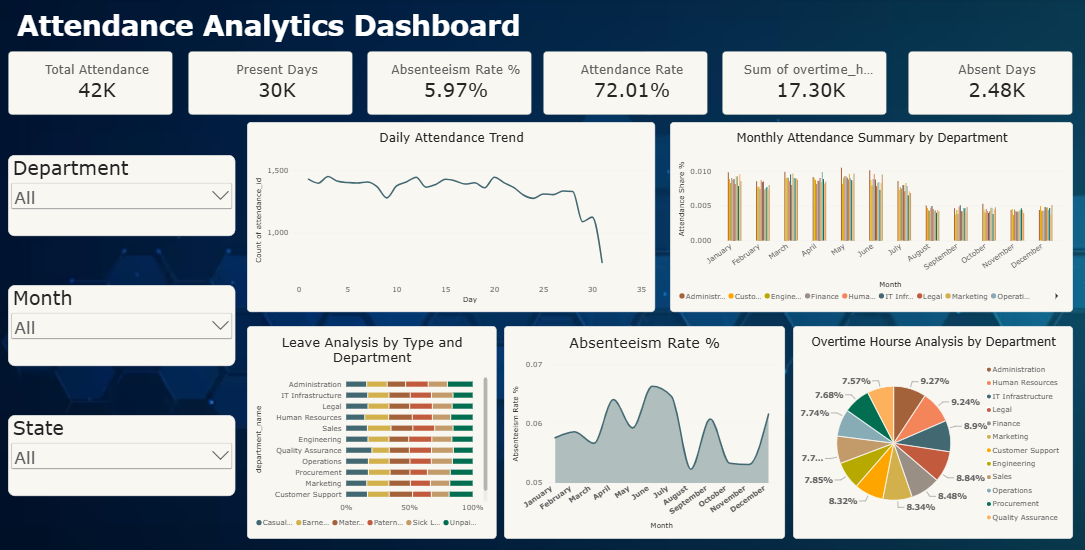

The dashboard page shown, as its layout file describes it:
{"tool":"powerbi","page":{"name":"Attendance Analytics","canvas":[2120,1080],"ordinal":3},"visuals":[{"type":"textbox","box":[42.5,19.1,1213.9,76.5],"z":0},{"type":"lineChart","title":"Daily Attendance Trend","fields":{"Y":["Count(attendance_cleaned.attendance_id)"],"Category":["attendance_cleaned.attendance_date.Variation.Date Hierarchy.Day"]},"box":[488.6,240.4,790.1,368.4],"z":1000},{"type":"clusteredColumnChart","title":"Monthly Attendance Summary by Department","fields":{"Category":["attendance_cleaned.attendance_date.Variation.Date Hierarchy.Month"],"Series":["departments_cleaned.department_name"],"Y":["attendance_cleaned.Attendance Share %"]},"box":[1306.3,240.4,780.2,368.4],"z":2000},{"type":"hundredPercentStackedBarChart","title":"Leave Analysis by Type and Department","fields":{"Category":["departments_cleaned.department_name"],"Y":["CountNonNull(leaves_cleaned.leave_id)"],"Series":["leaves_cleaned.leave_type"]},"box":[488.6,634.4,482.7,411.8],"z":3000},{"type":"stackedAreaChart","title":"Absenteeism Rate % ","fields":{"Category":["attendance_cleaned.attendance_date.Variation.Date Hierarchy.Month"],"Y":["attendance_cleaned.Absenteeism Rate %"]},"box":[985.1,634.4,543.8,411.8],"z":4000},{"type":"pieChart","title":"Overtime Hourse Analysis by Department","fields":{"Category":["departments_cleaned.department_name"],"Y":["Sum(attendance_cleaned.overtime_hours)"]},"box":[1544.7,634.4,541.8,411.8],"z":5000},{"type":"cardVisual","fields":{"Data":["attendance_cleaned.Absent Days"]},"box":[1767.3,102.5,319.2,124.1],"z":6000},{"type":"cardVisual","fields":{"Data":["attendance_cleaned.Total Attendance"]},"box":[25.1,102.6,319.2,124.1],"z":7000},{"type":"cardVisual","fields":{"Data":["attendance_cleaned.Present Days"]},"box":[374.3,102.5,319.2,124.1],"z":8000},{"type":"cardVisual","fields":{"Data":["attendance_cleaned.Absenteeism Rate %"]},"box":[719.1,102.5,319.2,124.1],"z":9000},{"type":"cardVisual","fields":{"Data":["attendance_cleaned.Attendance Rate"]},"box":[1060,102.5,319.2,124.1],"z":10000},{"type":"cardVisual","fields":{"Data":["Sum(attendance_cleaned.overtime_hours)"]},"box":[1406.8,102.5,319.2,124.1],"z":11000},{"type":"slicer","fields":{"Values":["departments_cleaned.department_name"]},"box":[25.6,303.4,440,157.3],"z":12000},{"type":"slicer","fields":{"Values":["DateTable.Date.Variation.Date Hierarchy.Month"]},"box":[25.6,555.6,440,157.3],"z":13000},{"type":"slicer","fields":{"Values":["employees_cleaned.state"]},"box":[25.6,807.8,440,157.3],"z":14000}]}

Visuals, with their boxes in screenshot pixels (x1, y1, x2, y2), scaled from the page's 2120x1080 canvas onto the 1085x550 screenshot:
textbox: detection(22, 10, 643, 49)
"Daily Attendance Trend" lineChart: detection(250, 122, 654, 310)
"Monthly Attendance Summary by Department" clusteredColumnChart: detection(669, 122, 1068, 310)
"Leave Analysis by Type and Department" hundredPercentStackedBarChart: detection(250, 323, 497, 533)
"Absenteeism Rate % " stackedAreaChart: detection(504, 323, 782, 533)
"Overtime Hourse Analysis by Department" pieChart: detection(791, 323, 1068, 533)
cardVisual - attendance_cleaned.Absent Days: detection(904, 52, 1068, 115)
cardVisual - attendance_cleaned.Total Attendance: detection(13, 52, 176, 115)
cardVisual - attendance_cleaned.Present Days: detection(192, 52, 355, 115)
cardVisual - attendance_cleaned.Absenteeism Rate %: detection(368, 52, 531, 115)
cardVisual - attendance_cleaned.Attendance Rate: detection(542, 52, 706, 115)
cardVisual - Sum(attendance_cleaned.overtime_hours): detection(720, 52, 883, 115)
slicer - departments_cleaned.department_name: detection(13, 155, 238, 235)
slicer - DateTable.Date.Variation.Date Hierarchy.Month: detection(13, 283, 238, 363)
slicer - employees_cleaned.state: detection(13, 411, 238, 491)
